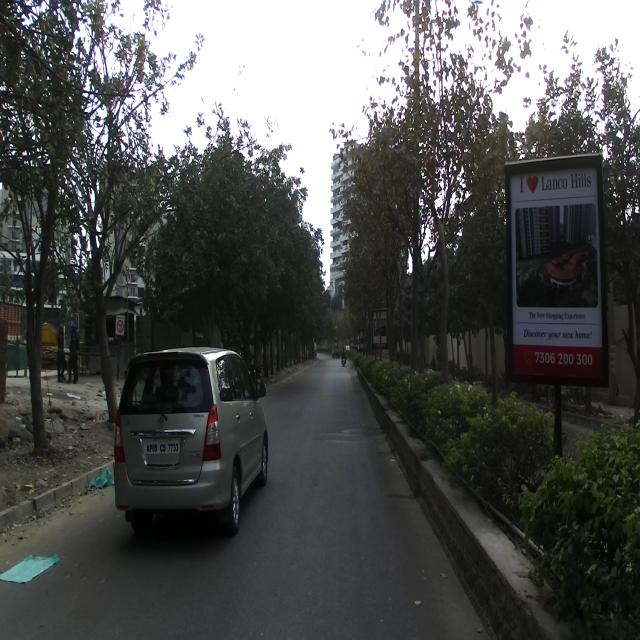car ahead at: (115, 354, 271, 531)
tree ahead at: (6, 167, 61, 469)
